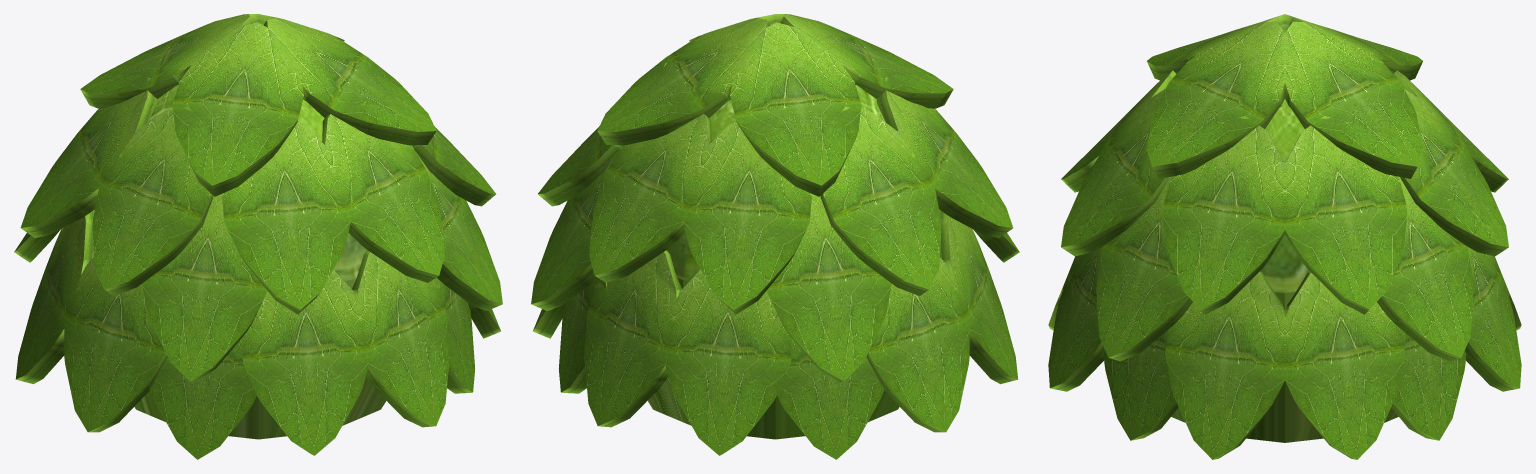
File: EnvBushAlive.fbx
3 renders of one model, left to right at view 1: azimuth 30°, elevation 25°; view 2: azimuth 150°, elevation 25°; view 3: azimuth 270°, elevation 25°, orthographic.
Visible parts, largest first — view 1: Leaf001, Base; view 2: Leaf001, Base; view 3: Leaf001, Base.
Boxes of the visible parts, x1,y1,x2,y2 form: Leaf001: [14, 14, 502, 459]; Base: [94, 85, 386, 439]; Leaf001: [531, 14, 1019, 459]; Base: [647, 85, 939, 439]; Leaf001: [1048, 14, 1521, 459]; Base: [1171, 99, 1398, 442].
Size of the model in its own units: 78.21 by 64.95 by 76.61.
1 material, 1 textured.
